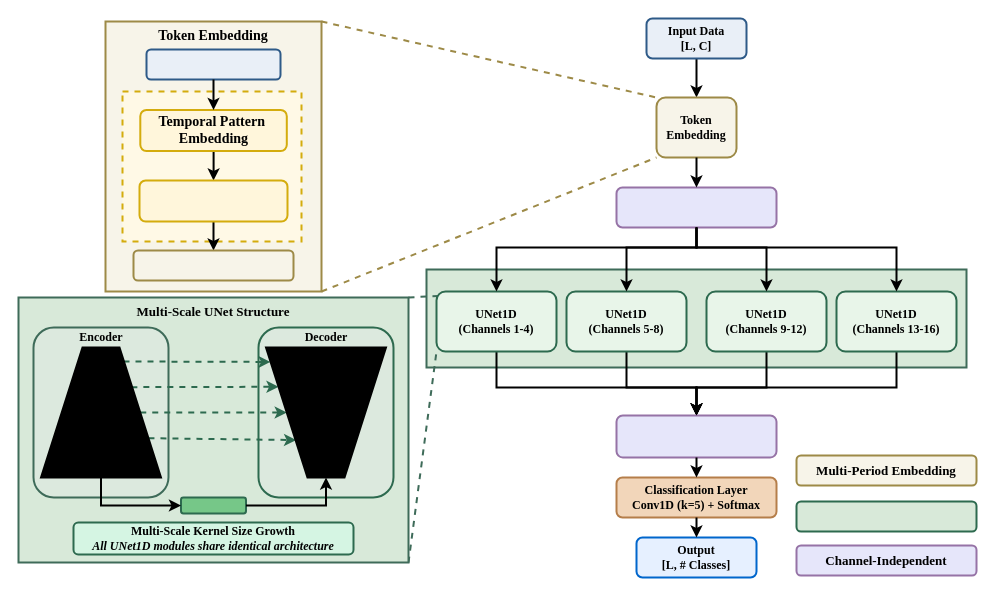
Image size: 994x595. Some labels were removed from this diagram. Each missing label, with the centre of its shape:
Bottleneck: point 213,505
Channel Concatenation 4×[L, 4] → [L, 16]: point 696,436
Channel Split [L, 16] → 4×[L, 4]: point 696,207
Embedding Vector [L, 16]: point 213,265
Input Signal [L, C]: point 213,64
Multi-Scale Processing: point 886,516
Position Embedding: point 213,200
